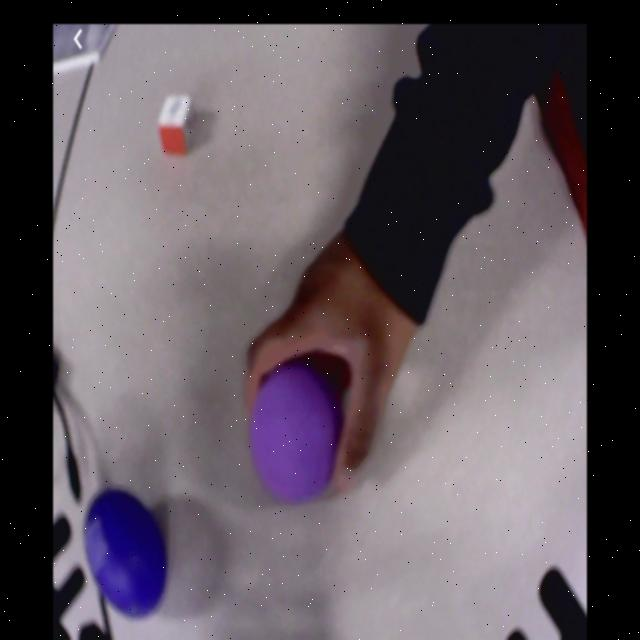ball: (248, 360, 339, 502), (84, 485, 166, 618)
